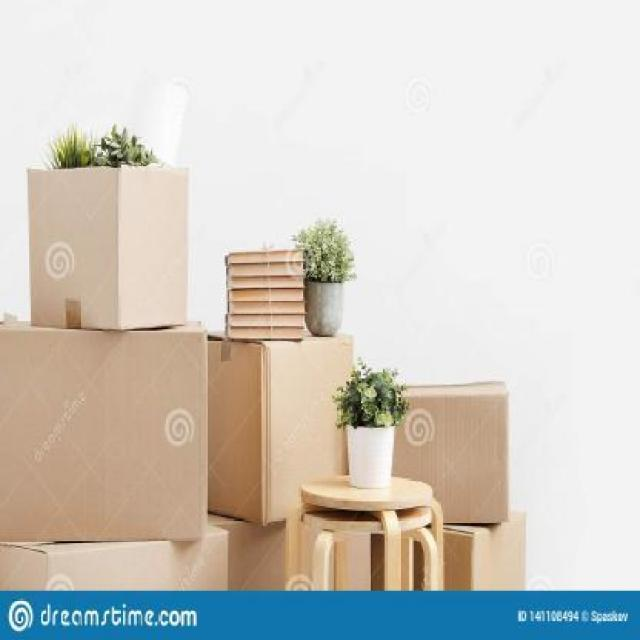box: (0, 321, 212, 547), (204, 330, 352, 525), (26, 161, 190, 331), (383, 385, 511, 526), (0, 528, 231, 594)
